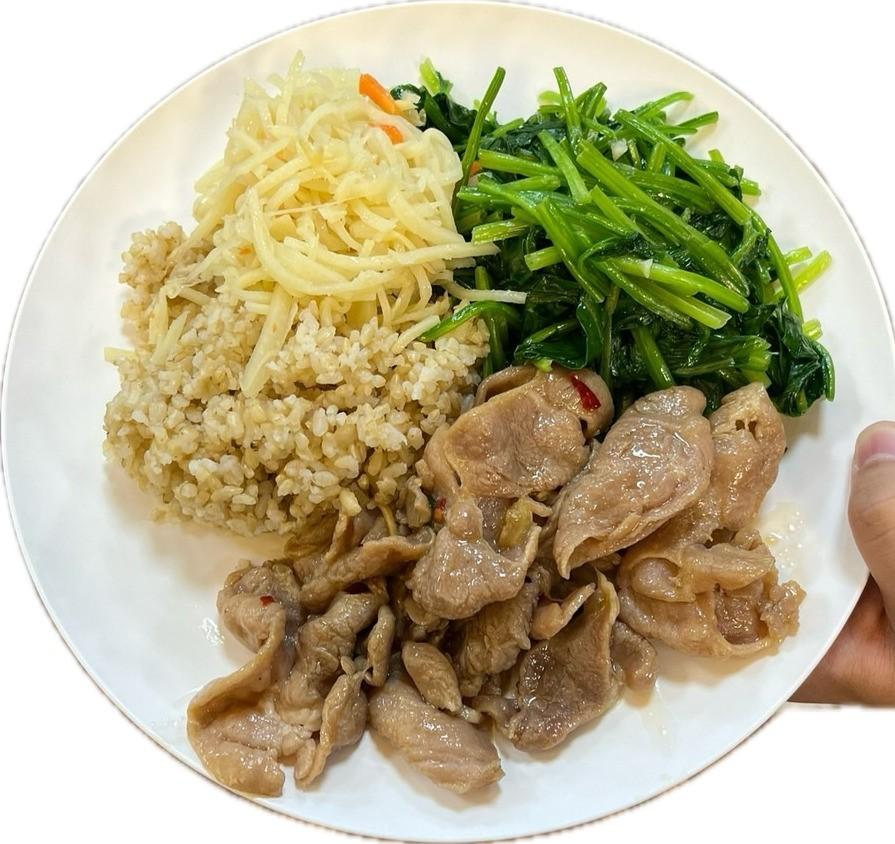big fried chicken leg: (4, 0, 895, 844)
box: (101, 284, 492, 539)
braised fish fillet: (420, 72, 844, 405), (200, 56, 470, 326)
braised pork: (183, 372, 812, 808)
